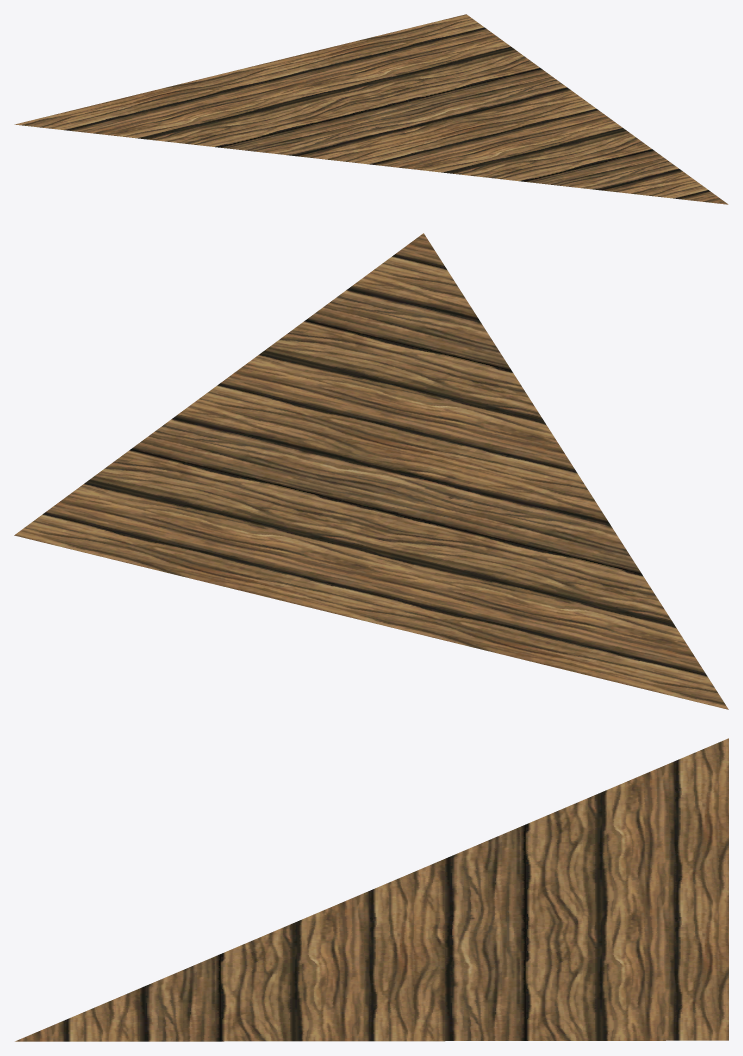
File: LAKETOWN_EXTERIOR_PS_LT_PIER_WOOD15.fbx
The picture shows the model from 3 angles, top to bottom: view 1: azimuth 30°, elevation 25°; view 2: azimuth 150°, elevation 25°; view 3: azimuth 270°, elevation 25°; orthographic projection. The views are drawn at different scales.
Parts seen in each view (by area): view 1: LAKETOWN_EXTERIOR_PS_LT_PIER_WOOD15; view 2: LAKETOWN_EXTERIOR_PS_LT_PIER_WOOD15; view 3: LAKETOWN_EXTERIOR_PS_LT_PIER_WOOD15.
Part boxes in pixels (x1=…): LAKETOWN_EXTERIOR_PS_LT_PIER_WOOD15: x1=14, y1=14, x2=728, y2=204; LAKETOWN_EXTERIOR_PS_LT_PIER_WOOD15: x1=14, y1=233, x2=728, y2=709; LAKETOWN_EXTERIOR_PS_LT_PIER_WOOD15: x1=15, y1=738, x2=728, y2=1041.
Size of the model in its own units: 50114 by 0.0508 by 49873.
Materials: 1 (1 with a texture image).
